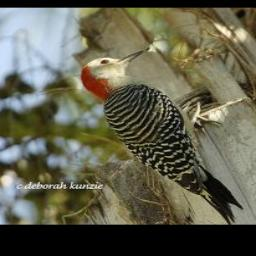Woodpecker: (75, 49, 245, 224)
